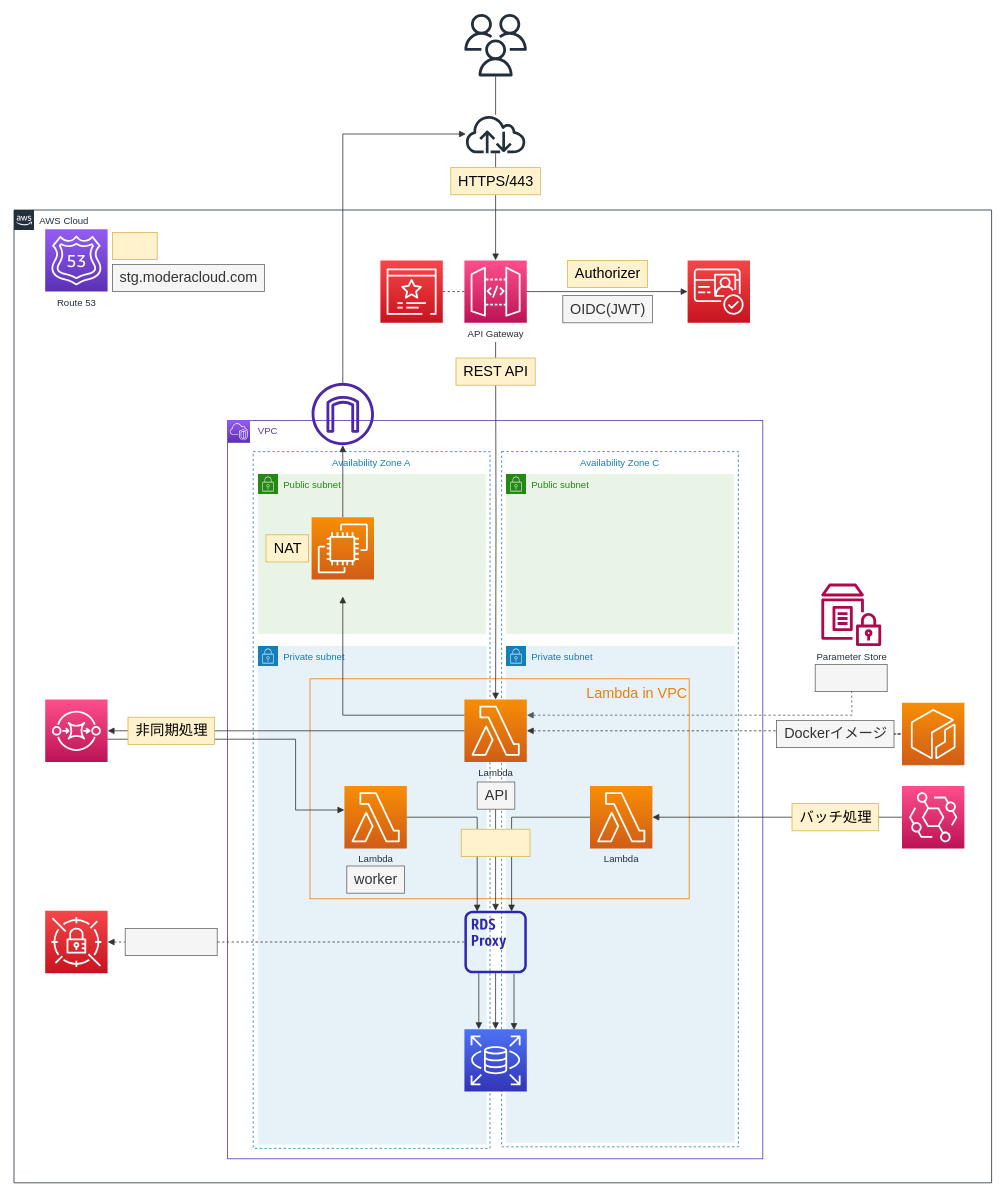
The diagram is 1006 pixels wide and 1197 high, and some of its shapes have lost their labels. Each missing label, with the box of its shape:
Certificate Manager: (380, 260, 443, 323)
Cognito: (687, 260, 750, 323)
DB認証情報: (124, 928, 217, 956)
DNS: (112, 232, 157, 260)
EC2: (311, 516, 374, 580)
ECR: (901, 702, 964, 765)
Event Bridge: (901, 785, 964, 848)
IAM認証: (460, 828, 530, 856)
RDS: (464, 1028, 527, 1092)
Secrets Manager: (44, 910, 108, 973)
SQS: (44, 699, 108, 762)
環境変数: (814, 664, 887, 692)
